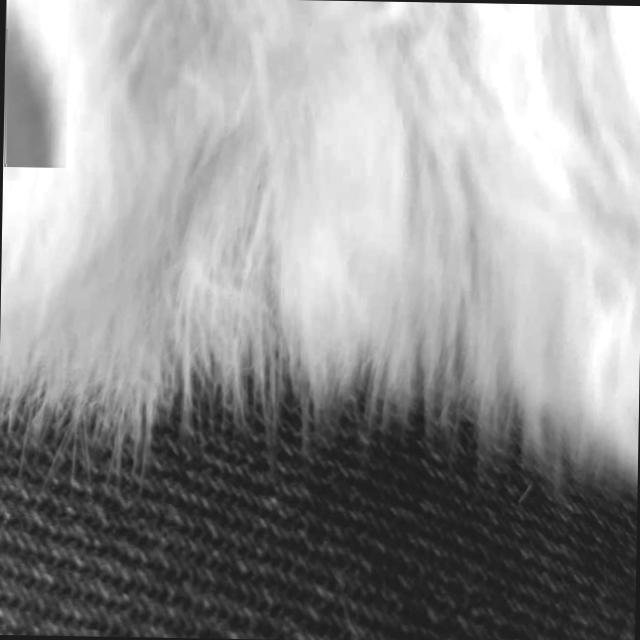fem: (6, 0, 68, 168), (5, 0, 41, 180), (5, 144, 14, 165)
